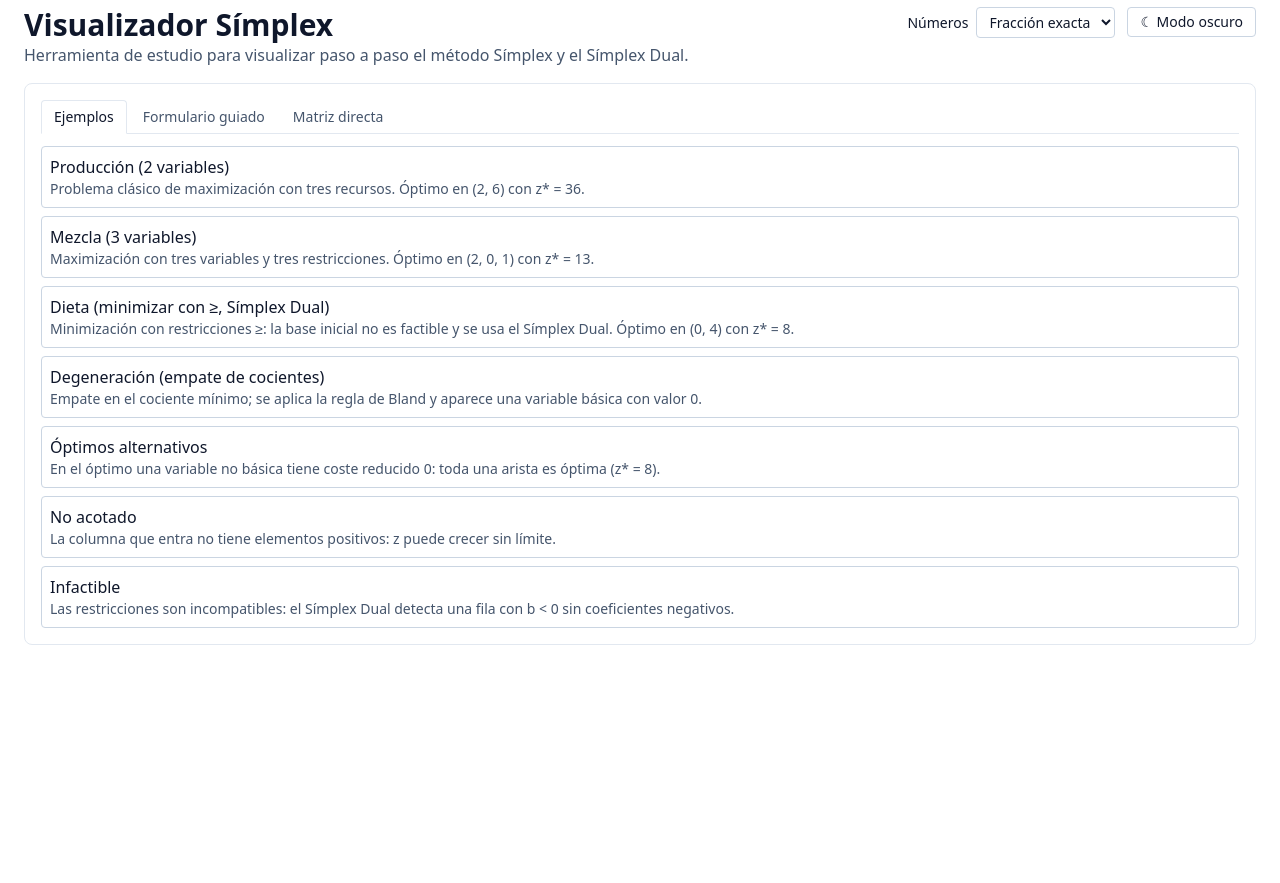
Test: App › en el ejemplo de 2 variables la tabla inicial marca x2 como variable que entra y s2 como la que sale
Click the button "Producción (2 variables)": {"x": 139, "y": 167} [41,146,1239,208]
(page scrolled)
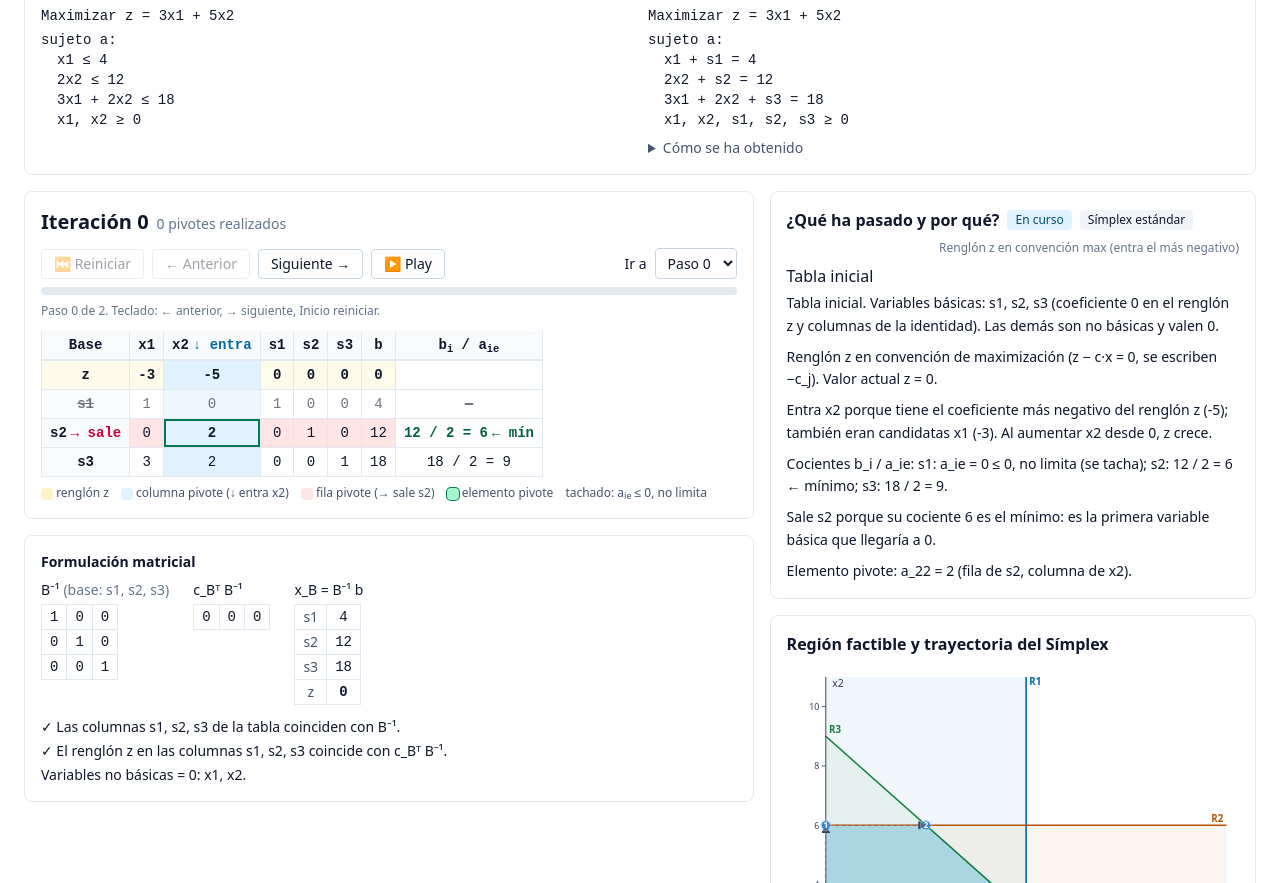
Expected: the column heading named "x2, variable que entra" is shown, [164,331,260,360]
Expected: the column heading named "s2, variable que sale" is shown, [42,418,130,448]
Expected: the cell named "elemento pivote" reads "2", [208,425,216,441]
